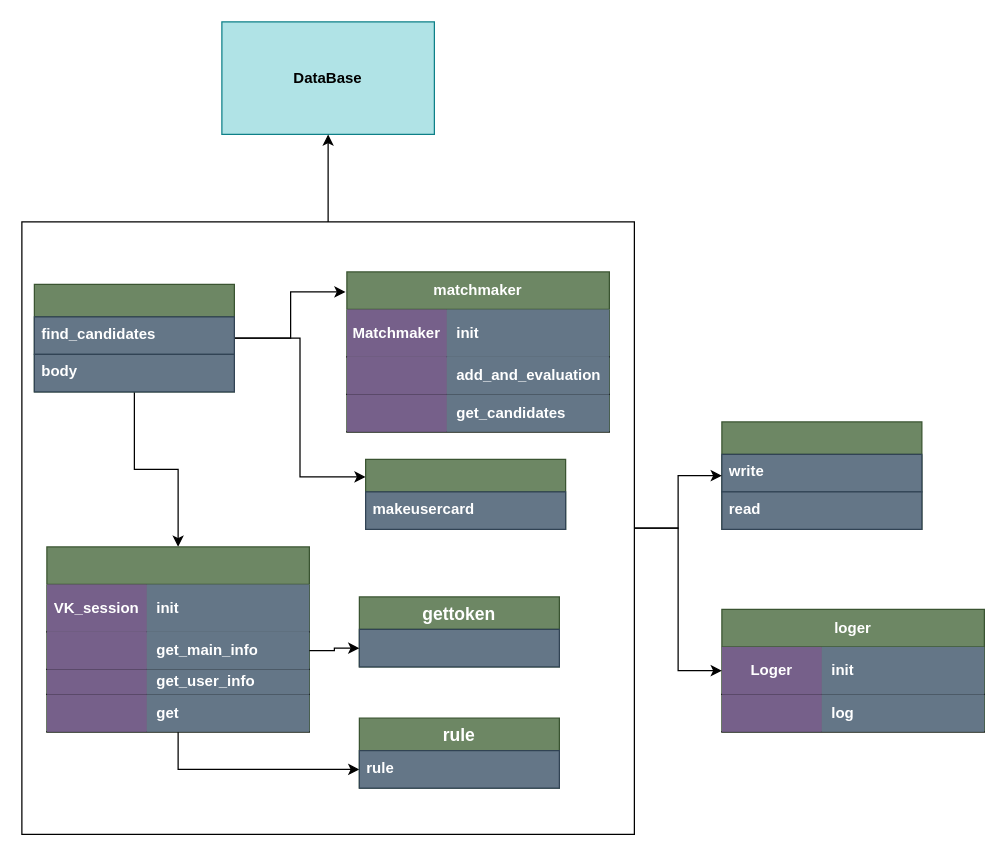
The diagram is 1006 pixels wide and 856 high, and some of its shapes have lost their labels. The box of each missing label's shape, as (x1, y1, x2, y2) in pixels:
get_token: (358, 628, 559, 667)
jsonwrite: (721, 421, 922, 529)
main: (33, 283, 234, 392)
usercardmaker: (364, 458, 566, 529)
vk_api_plus: (46, 546, 309, 732)
